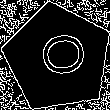O_W: (29, 32, 87, 83)
